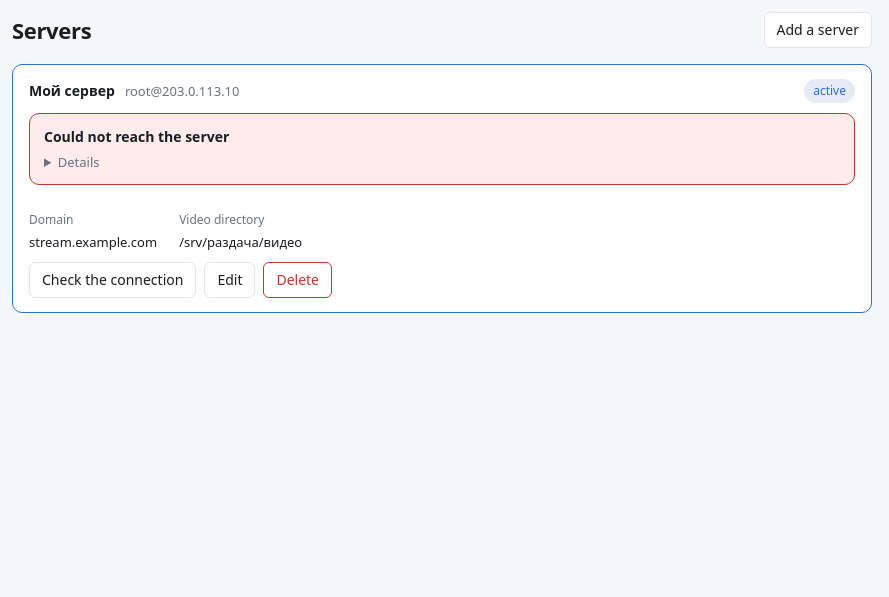
Test: the list of servers › shows the same check in English when English is chosen
Click the button "Check the connection" at coordinates (113, 280), box [29,262,196,298]
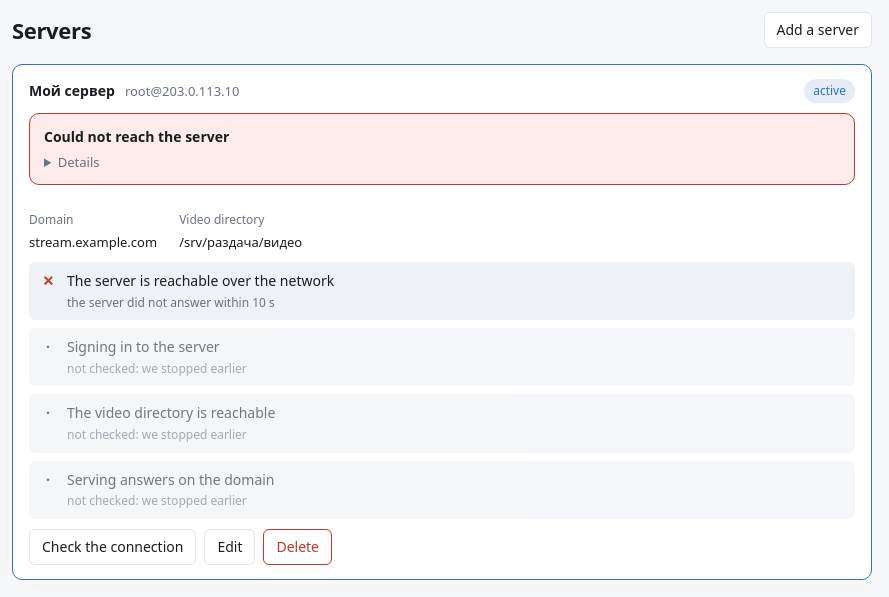
expect the text "The server is reachable over the network" is shown: met, box [67,270,334,292]
